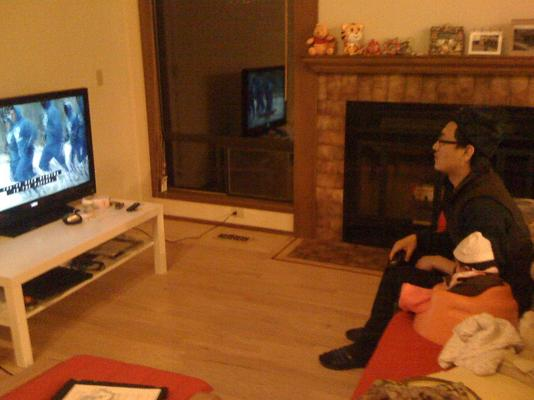person: (318, 111, 534, 371)
